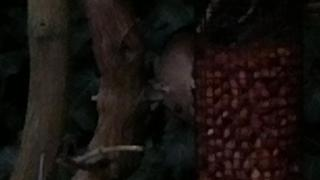mouse: (150, 31, 197, 123)
